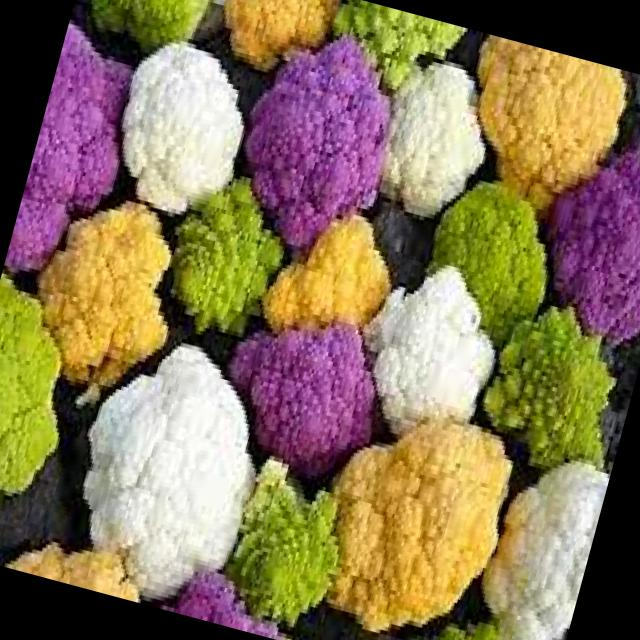cayliflower: (42, 310, 297, 626), (282, 386, 529, 640), (4, 171, 201, 435), (220, 7, 416, 256), (3, 0, 166, 288), (402, 131, 580, 348), (465, 275, 640, 495), (446, 34, 632, 235), (344, 250, 516, 461), (134, 152, 297, 373), (104, 17, 274, 225), (457, 420, 617, 640), (208, 418, 367, 630), (0, 260, 107, 561), (358, 29, 516, 224), (248, 186, 402, 376), (516, 123, 640, 351), (306, 0, 483, 119), (0, 489, 166, 605), (152, 542, 312, 640), (201, 0, 342, 98), (66, 0, 231, 76), (386, 597, 545, 640)
